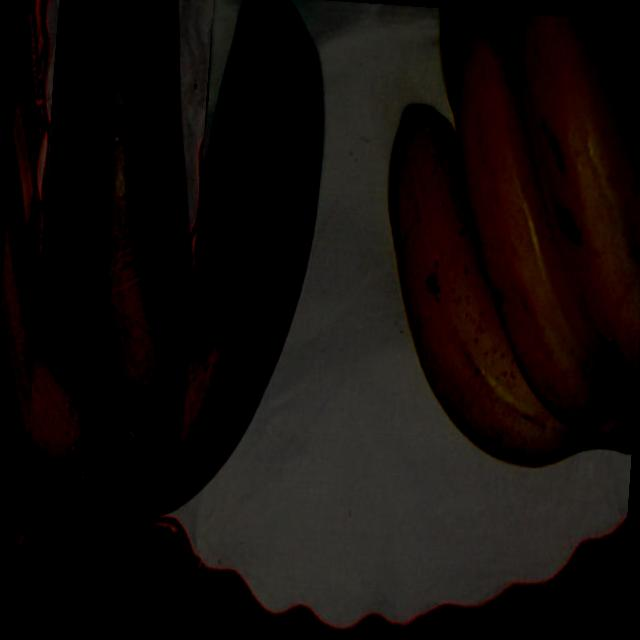Banana: (0, 0, 330, 613), (367, 7, 640, 458)
